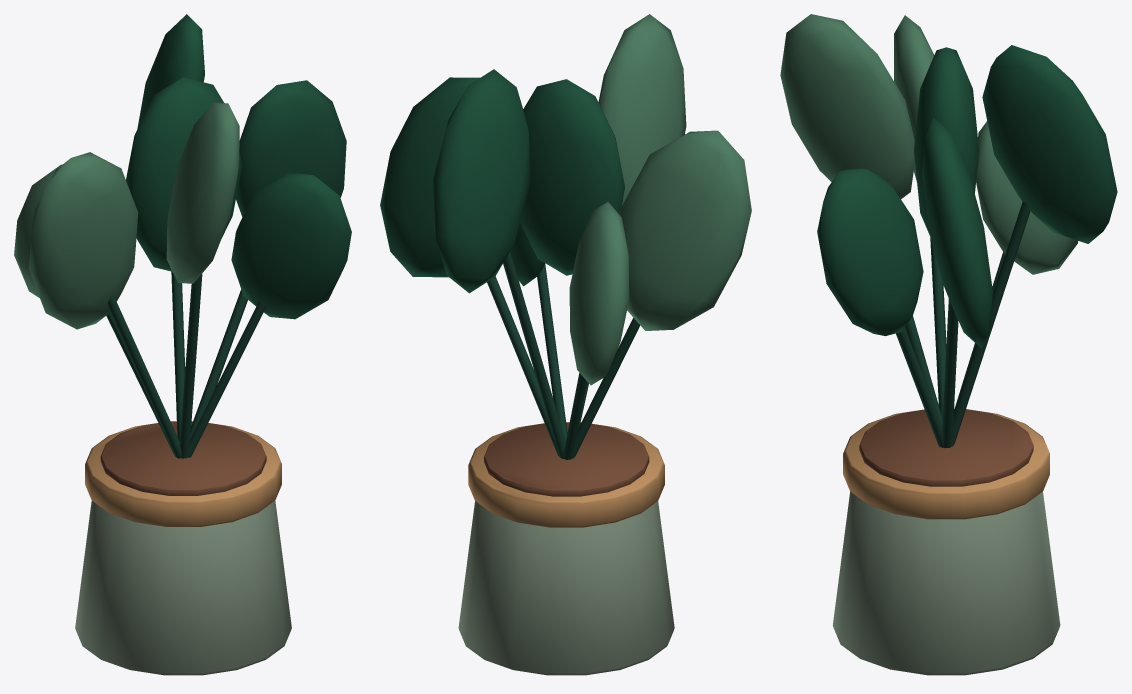
File: pine_hills_floor_plant_v1.glb
3 views of the same model, side by side, from view 1: azimuth 30°, elevation 25°; view 2: azimuth 150°, elevation 25°; view 3: azimuth 270°, elevation 25° (orthographic). The views are drawn at different scales.
Visible parts, largest first — view 1: MESH_FloorPlantPot, MESH_FloorPlantLeaf_01, MESH_FloorPlantLeaf_06, MESH_FloorPlantLeaf_02, MESH_FloorPlantLeaf_03, MESH_FloorPlantSoil, MESH_FloorPlantCrown, MESH_FloorPlantPotRim, MESH_FloorPlantLeaf_04, MESH_FloorPlantStem_03, MESH_FloorPlantStem_01, MESH_FloorPlantLeaf_05 (+3 smaller); view 2: MESH_FloorPlantPot, MESH_FloorPlantLeaf_01, MESH_FloorPlantLeaf_04, MESH_FloorPlantCrown, MESH_FloorPlantLeaf_03, MESH_FloorPlantLeaf_02, MESH_FloorPlantSoil, MESH_FloorPlantLeaf_05, MESH_FloorPlantPotRim, MESH_FloorPlantStem_04, MESH_FloorPlantStem_06, MESH_FloorPlantStem_02 (+3 smaller); view 3: MESH_FloorPlantPot, MESH_FloorPlantLeaf_04, MESH_FloorPlantLeaf_03, MESH_FloorPlantLeaf_06, MESH_FloorPlantSoil, MESH_FloorPlantLeaf_02, MESH_FloorPlantPotRim, MESH_FloorPlantCrown, MESH_FloorPlantLeaf_05, MESH_FloorPlantLeaf_01, MESH_FloorPlantStem_04, MESH_FloorPlantStem_02 (+3 smaller).
Part boxes in pixels (bbox=[...]): MESH_FloorPlantPot: bbox=[75, 501, 291, 675]; MESH_FloorPlantLeaf_01: bbox=[29, 152, 138, 329]; MESH_FloorPlantLeaf_06: bbox=[231, 173, 351, 319]; MESH_FloorPlantLeaf_02: bbox=[236, 80, 346, 216]; MESH_FloorPlantLeaf_03: bbox=[166, 102, 239, 283]; MESH_FloorPlantSoil: bbox=[100, 421, 266, 495]; MESH_FloorPlantCrown: bbox=[126, 77, 242, 271]; MESH_FloorPlantPotRim: bbox=[85, 423, 281, 526]; MESH_FloorPlantLeaf_04: bbox=[137, 14, 204, 128]; MESH_FloorPlantStem_03: bbox=[179, 274, 202, 458]; MESH_FloorPlantStem_01: bbox=[108, 296, 181, 458]; MESH_FloorPlantLeaf_05: bbox=[14, 164, 61, 297]; MESH_FloorPlantPot: bbox=[458, 501, 674, 675]; MESH_FloorPlantLeaf_01: bbox=[620, 130, 751, 330]; MESH_FloorPlantLeaf_04: bbox=[433, 69, 530, 293]; MESH_FloorPlantCrown: bbox=[520, 79, 624, 275]; MESH_FloorPlantLeaf_03: bbox=[598, 14, 686, 205]; MESH_FloorPlantLeaf_02: bbox=[380, 77, 479, 277]; MESH_FloorPlantSoil: bbox=[484, 422, 649, 496]; MESH_FloorPlantLeaf_05: bbox=[569, 202, 629, 385]; MESH_FloorPlantPotRim: bbox=[468, 423, 664, 527]; MESH_FloorPlantStem_04: bbox=[503, 251, 565, 458]; MESH_FloorPlantStem_06: bbox=[537, 264, 567, 441]; MESH_FloorPlantStem_02: bbox=[487, 276, 558, 455]; MESH_FloorPlantPot: bbox=[832, 491, 1060, 675]; MESH_FloorPlantLeaf_04: bbox=[982, 45, 1117, 243]; MESH_FloorPlantLeaf_03: bbox=[780, 14, 914, 198]; MESH_FloorPlantLeaf_06: bbox=[817, 167, 923, 335]; MESH_FloorPlantSoil: bbox=[859, 408, 1033, 486]; MESH_FloorPlantLeaf_02: bbox=[922, 117, 992, 348]; MESH_FloorPlantPotRim: bbox=[843, 409, 1049, 519]; MESH_FloorPlantCrown: bbox=[914, 47, 979, 236]; MESH_FloorPlantLeaf_05: bbox=[976, 121, 1077, 274]; MESH_FloorPlantLeaf_01: bbox=[894, 15, 934, 181]; MESH_FloorPlantStem_04: bbox=[951, 201, 1030, 446]; MESH_FloorPlantStem_02: bbox=[942, 298, 958, 447].
Size of the model in its own units: 0.7633 by 1.23 by 0.6194.
